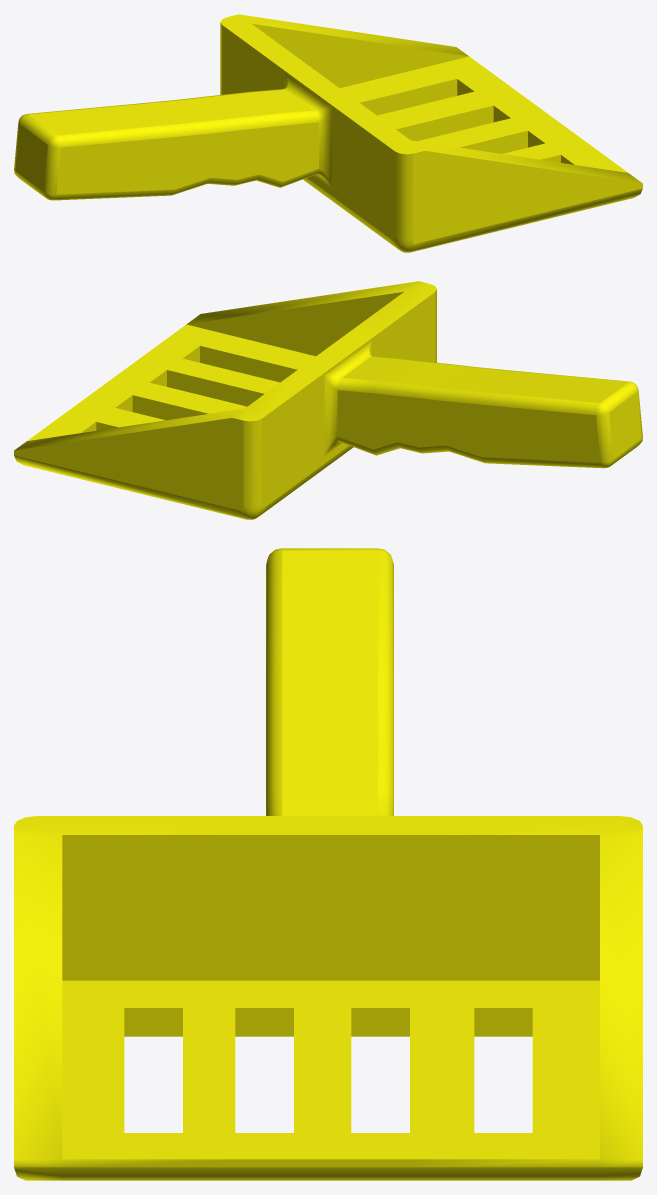
File: Scooper.fbx
3 renders of one model, top to bottom at view 1: azimuth 30°, elevation 25°; view 2: azimuth 150°, elevation 25°; view 3: azimuth 270°, elevation 25°, orthographic. The views are drawn at different scales.
Visible parts, largest first — view 1: Scooper; view 2: Scooper; view 3: Scooper.
Part boxes in pixels (left/top/right/bottom): Scooper: left=14, top=14, right=642, bottom=252; Scooper: left=14, top=281, right=642, bottom=519; Scooper: left=14, top=548, right=642, bottom=1180.
Bounding box in the file's own units: 889 × 214 × 552.
